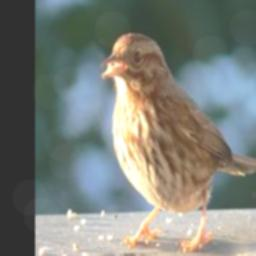Sparrow: (100, 29, 256, 253)
